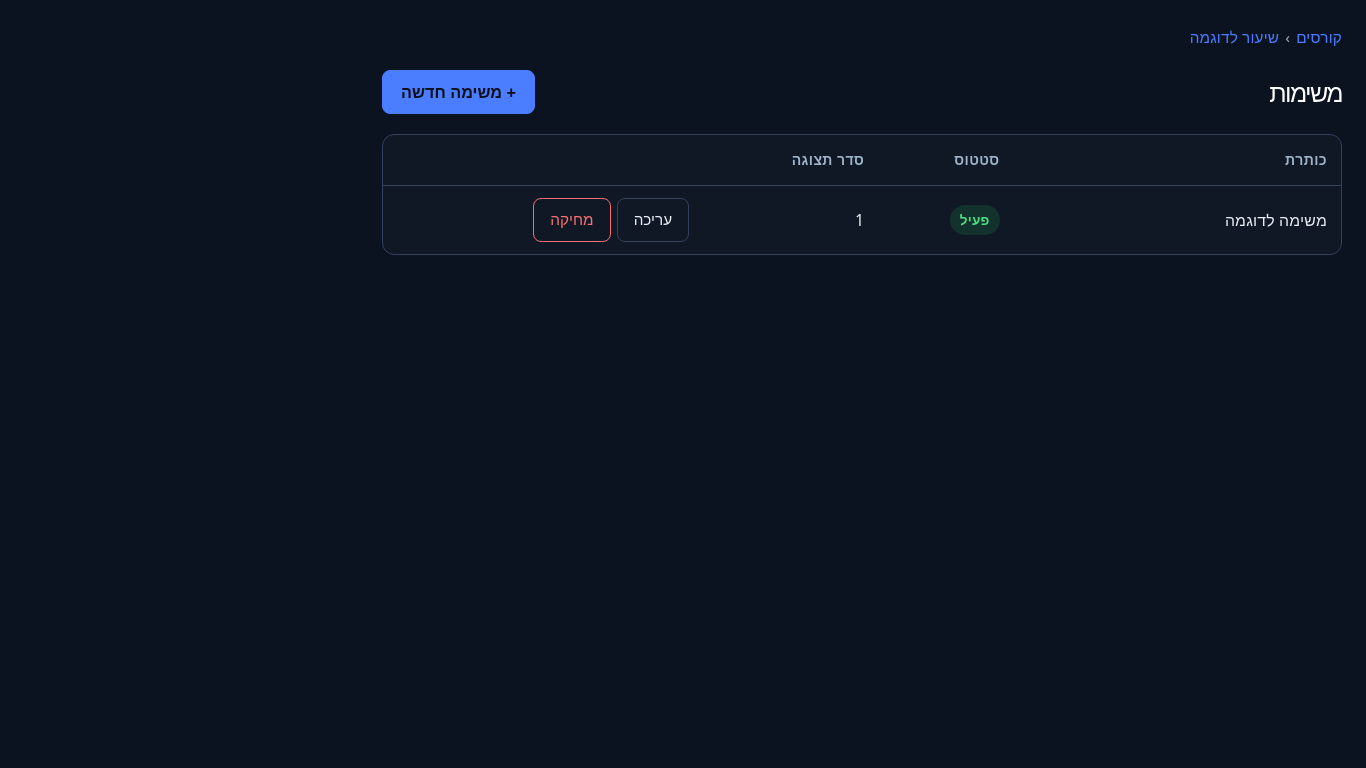
Test case: AdminMissions › opens the create form as a real modal dialog
Click the button "+ משימה חדשה": (459, 92) [382,70,535,114]
(page scrolled)
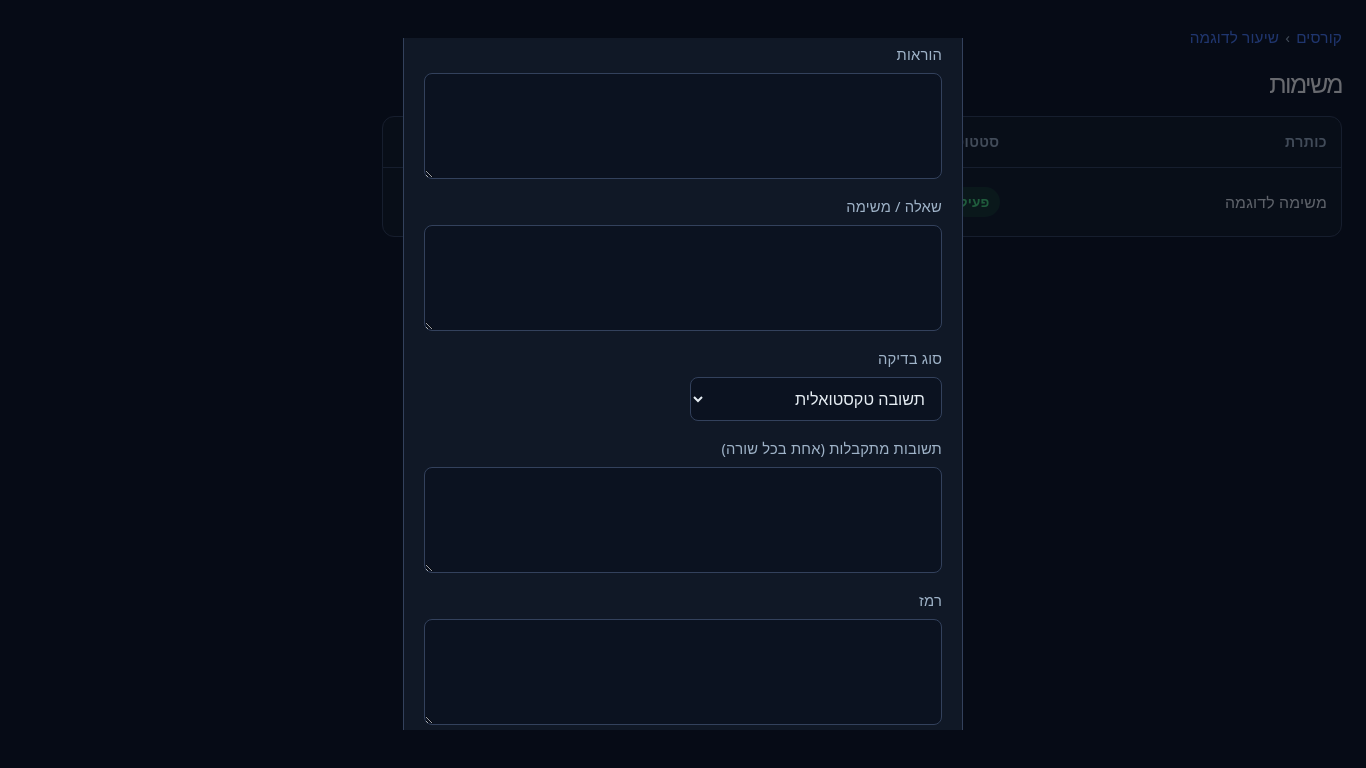
expect the dialog is shown: met, box [403,38,963,730]
